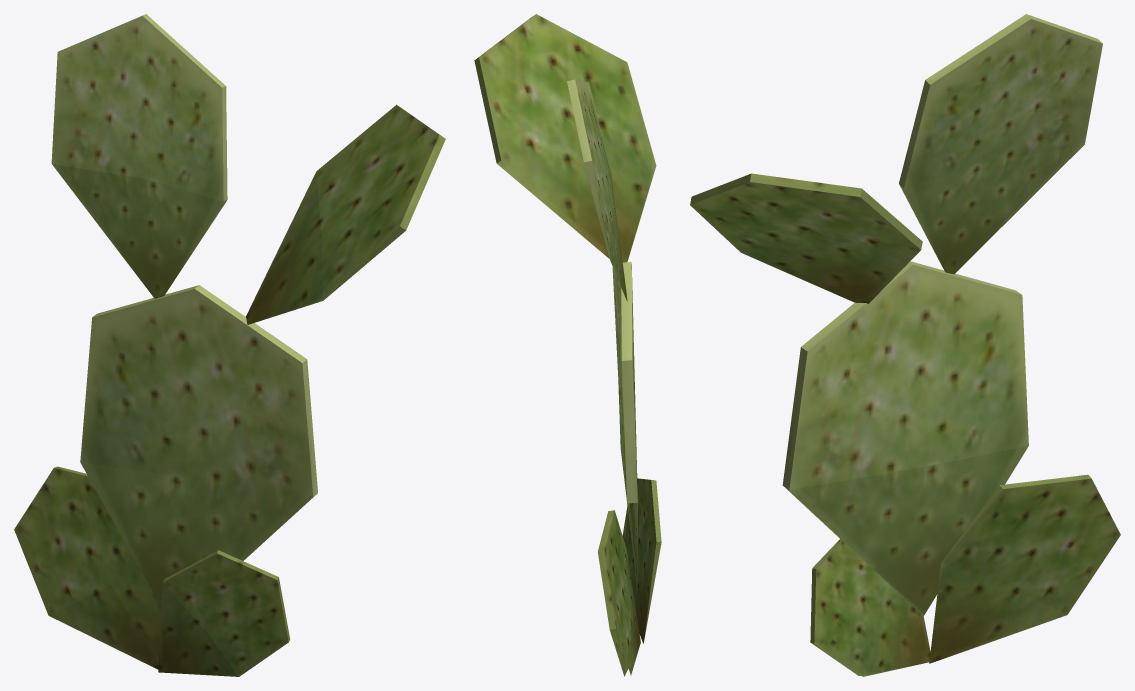
Rendered from Cactus.fbx.
3 views of the same model, side by side, from view 1: azimuth 30°, elevation 25°; view 2: azimuth 150°, elevation 25°; view 3: azimuth 270°, elevation 25° (orthographic). The views are drawn at different scales.
Visible parts, largest first — view 1: Cactus44; view 2: Cactus44; view 3: Cactus44.
Part boxes in pixels (x1,y1,x2,y2): Cactus44: (14,14,445,676); Cactus44: (474,14,661,676); Cactus44: (690,14,1120,676).
Size of the model in its own units: 1.03 by 2.26 by 1.33.
